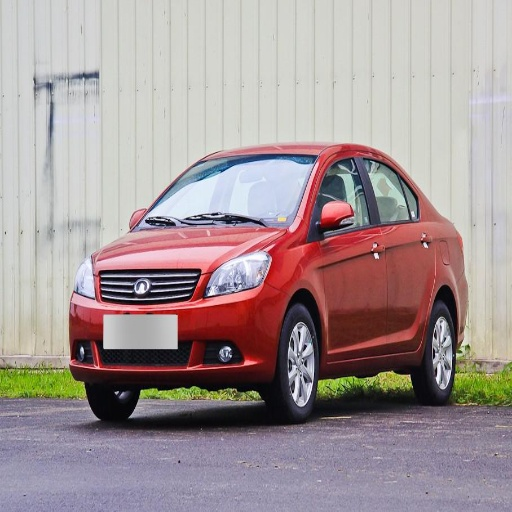front_bumper: (70, 265, 287, 388)
front_glass: (133, 157, 315, 227)
front_left_door: (312, 149, 385, 356)
